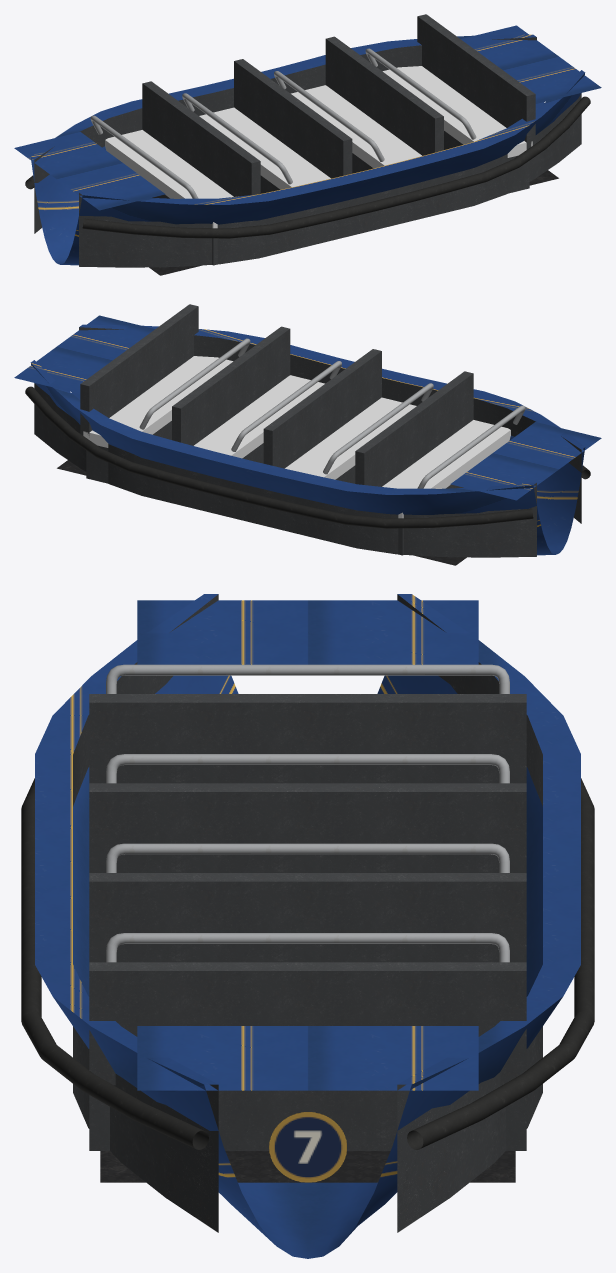
File: SM_QUE_Boat_Blue.fbx
3 views of the same model, one above another, from view 1: azimuth 30°, elevation 25°; view 2: azimuth 150°, elevation 25°; view 3: azimuth 270°, elevation 25° (orthographic). The views are drawn at different scales.
Parts seen in each view (by area): view 1: SM_QUE_Boat_Blue_LOD0; view 2: SM_QUE_Boat_Blue_LOD0; view 3: SM_QUE_Boat_Blue_LOD0.
Boxes of the visible parts, <box> form: SM_QUE_Boat_Blue_LOD0: <box>14,14,601,275</box>; SM_QUE_Boat_Blue_LOD0: <box>14,304,601,565</box>; SM_QUE_Boat_Blue_LOD0: <box>21,594,594,1258</box>.
Size of what is drawn, in the model's own units: 3.44 by 0.82 by 1.68.
